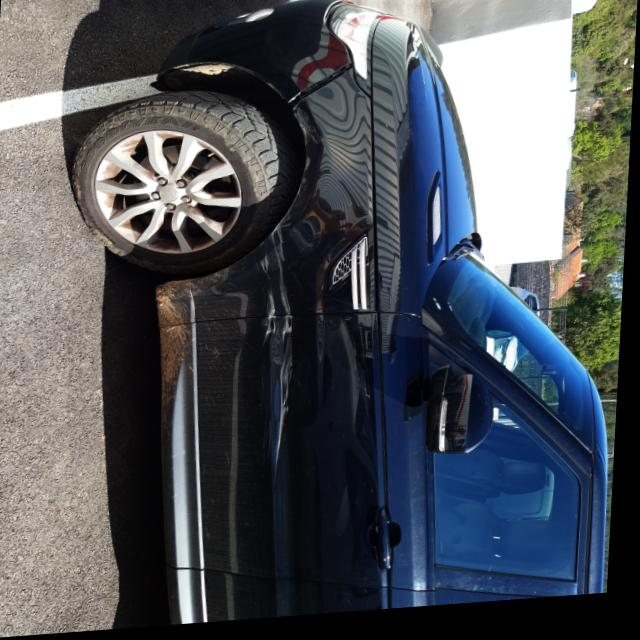porte-avant: (156, 335, 609, 624)
